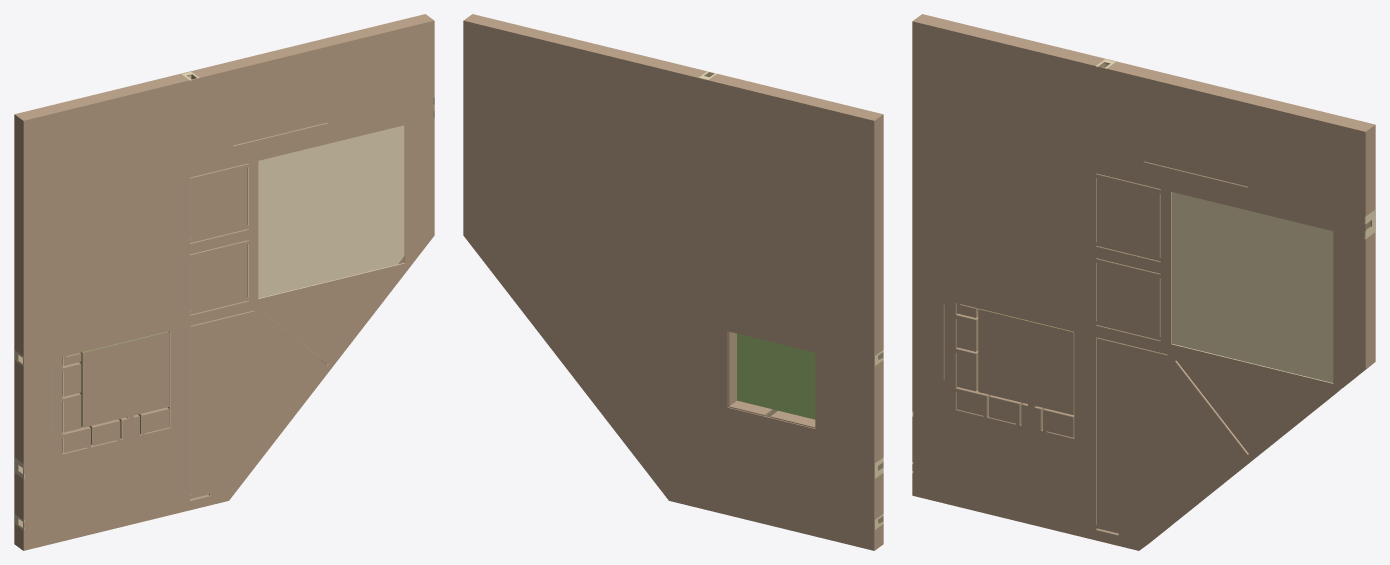
File: Pentagonal_Building.fbx
The picture shows the model from 3 angles, left to right: view 1: azimuth 30°, elevation 25°; view 2: azimuth 150°, elevation 25°; view 3: azimuth 330°, elevation 25°; orthographic projection. The views are drawn at different scales.
Visible parts, largest first — view 1: imagetostl_mesh684, imagetostl_mesh41, imagetostl_mesh409, imagetostl_mesh148, imagetostl_mesh39, imagetostl_mesh430, imagetostl_mesh149, imagetostl_mesh421, imagetostl_mesh387, imagetostl_mesh372, imagetostl_mesh221, imagetostl_mesh395 (+1 smaller); view 2: imagetostl_mesh685, imagetostl_mesh697, imagetostl_mesh148, imagetostl_mesh39, imagetostl_mesh149, imagetostl_mesh221, imagetostl_mesh352; view 3: imagetostl_mesh684, imagetostl_mesh41, imagetostl_mesh409, imagetostl_mesh39, imagetostl_mesh430, imagetostl_mesh149, imagetostl_mesh387, imagetostl_mesh421, imagetostl_mesh46, imagetostl_mesh372, imagetostl_mesh395, imagetostl_mesh344 (+2 smaller).
Boxes of the visible parts, x1,y1,x2,y2 form: imagetostl_mesh684: [23, 22, 434, 549]; imagetostl_mesh41: [19, 75, 404, 523]; imagetostl_mesh409: [23, 80, 189, 358]; imagetostl_mesh148: [15, 115, 23, 355]; imagetostl_mesh39: [191, 14, 433, 77]; imagetostl_mesh430: [24, 80, 328, 529]; imagetostl_mesh149: [15, 74, 189, 120]; imagetostl_mesh421: [197, 20, 434, 154]; imagetostl_mesh387: [23, 443, 170, 519]; imagetostl_mesh372: [190, 269, 407, 510]; imagetostl_mesh221: [15, 360, 23, 463]; imagetostl_mesh395: [23, 495, 170, 550]; imagetostl_mesh685: [463, 20, 874, 550]; imagetostl_mesh697: [737, 333, 815, 419]; imagetostl_mesh148: [875, 114, 883, 355]; imagetostl_mesh39: [464, 14, 706, 77]; imagetostl_mesh149: [709, 73, 882, 120]; imagetostl_mesh221: [875, 360, 883, 463]; imagetostl_mesh352: [729, 332, 736, 405]; imagetostl_mesh684: [912, 22, 1365, 549]; imagetostl_mesh41: [1105, 63, 1370, 382]; imagetostl_mesh409: [912, 21, 1095, 320]; imagetostl_mesh39: [1107, 62, 1374, 131]; imagetostl_mesh430: [943, 66, 1365, 535]; imagetostl_mesh149: [913, 14, 1104, 65]; imagetostl_mesh387: [912, 416, 1074, 500]; imagetostl_mesh421: [1104, 68, 1365, 216]; imagetostl_mesh46: [1365, 232, 1374, 368]; imagetostl_mesh372: [1096, 355, 1335, 550]; imagetostl_mesh395: [912, 473, 1074, 534]; imagetostl_mesh344: [1365, 125, 1374, 216].
Bounding box in the file's own units: 504000 × 504000 × 19200.
